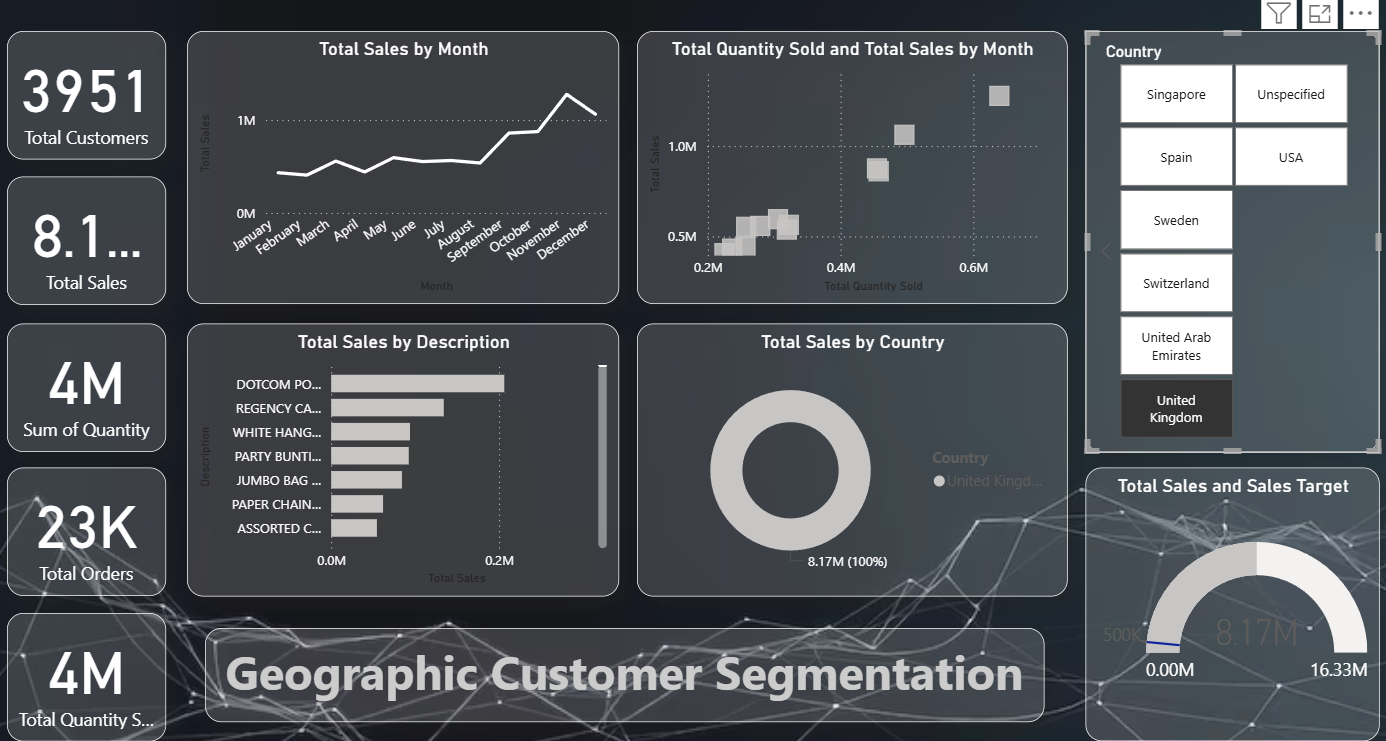

The dashboard page shown, as its layout file describes it:
{"tool":"powerbi","page":{"name":"Page 1","canvas":[1280,720],"ordinal":0},"visuals":[{"type":"card","fields":{"Values":["Sum(customer_segmentation.Quantity)"]},"box":[13.2,302.1,145.5,117.2],"z":0},{"type":"card","fields":{"Values":["customer_segmentation.Sales"]},"box":[13.2,167.9,145.5,117.2],"z":1000},{"type":"card","fields":{"Values":["customer_segmentation.Total Orders"]},"box":[13.2,434.3,145.5,117.2],"z":2000},{"type":"card","fields":{"Values":["customer_segmentation.Total Quantity Sold"]},"box":[13.2,566.6,145.5,117.2],"z":3000},{"type":"card","fields":{"Values":["customer_segmentation.Total Customers"]},"box":[13.2,35.6,145.5,117.2],"z":4000},{"type":"lineChart","fields":{"Category":["customer_segmentation.Date.Variation.Date Hierarchy.Month"],"Y":["customer_segmentation.Total Sales"]},"box":[177.6,35.6,395,249.5],"z":5000},{"type":"barChart","fields":{"Category":["customer_segmentation.Description"],"Y":["customer_segmentation.Total Sales"]},"box":[177.6,302.1,395,249.5],"z":6000},{"type":"slicer","fields":{"Values":["customer_segmentation.Country"]},"box":[998.9,35,268.8,384.9],"z":7000},{"type":"scatterChart","fields":{"X":["customer_segmentation.Total Quantity Sold"],"Y":["customer_segmentation.Total Sales"],"Category":["customer_segmentation.Date.Variation.Date Hierarchy.Month"]},"box":[589.6,35.9,393.1,249.5],"z":8000},{"type":"donutChart","fields":{"Category":["customer_segmentation.Country"],"Y":["customer_segmentation.Total Sales"]},"box":[589.6,302.4,393.1,249.5],"z":9000},{"type":"textbox","box":[194.1,580.6,766.7,85.9],"z":9001},{"type":"gauge","fields":{"Y":["customer_segmentation.Total Sales"],"TargetValue":["customer_segmentation.Sales Target"]},"box":[998.9,434.2,268.8,249.7],"z":9002}]}

Visuals, with their boxes on the page's 1280x720 design canvas (x1, y1, x2, y2). These are canvas units, not pixel positions in the 1386x741 screenshot, which may show the page scaled, cropped or inside an application window:
card - Sum(customer_segmentation.Quantity): 13,302,159,419
card - customer_segmentation.Sales: 13,168,159,285
card - customer_segmentation.Total Orders: 13,434,159,552
card - customer_segmentation.Total Quantity Sold: 13,567,159,684
card - customer_segmentation.Total Customers: 13,36,159,153
lineChart - customer_segmentation.Date.Variation.Date Hierarchy.Month x customer_segmentation.Total Sales: 178,36,573,285
barChart - customer_segmentation.Description x customer_segmentation.Total Sales: 178,302,573,552
slicer - customer_segmentation.Country: 999,35,1268,420
scatterChart - customer_segmentation.Total Quantity Sold x customer_segmentation.Total Sales: 590,36,983,285
donutChart - customer_segmentation.Country x customer_segmentation.Total Sales: 590,302,983,552
textbox: 194,581,961,666
gauge - customer_segmentation.Total Sales x customer_segmentation.Sales Target: 999,434,1268,684
